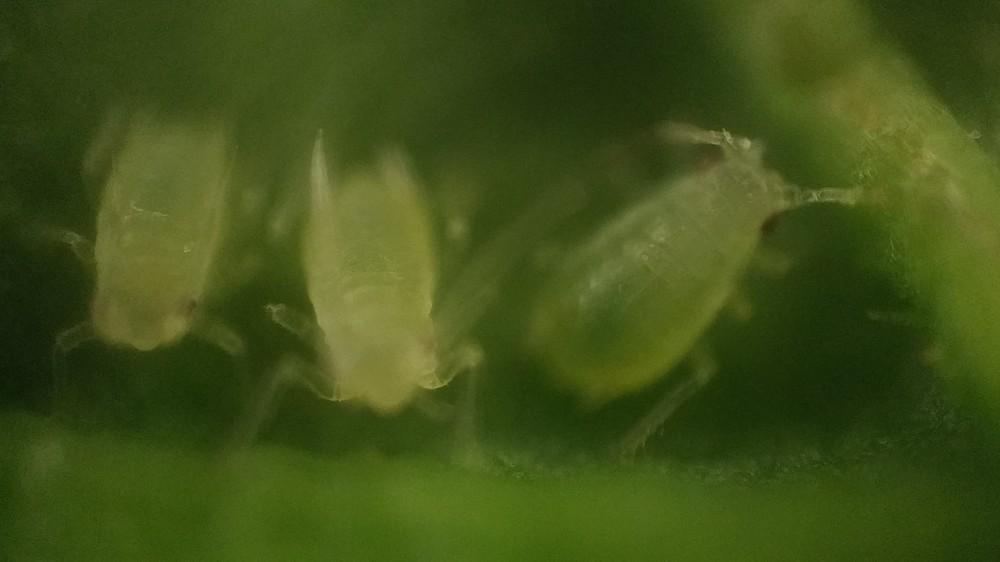Pulgon: (503, 106, 879, 483), (248, 118, 509, 492), (31, 96, 274, 399)
